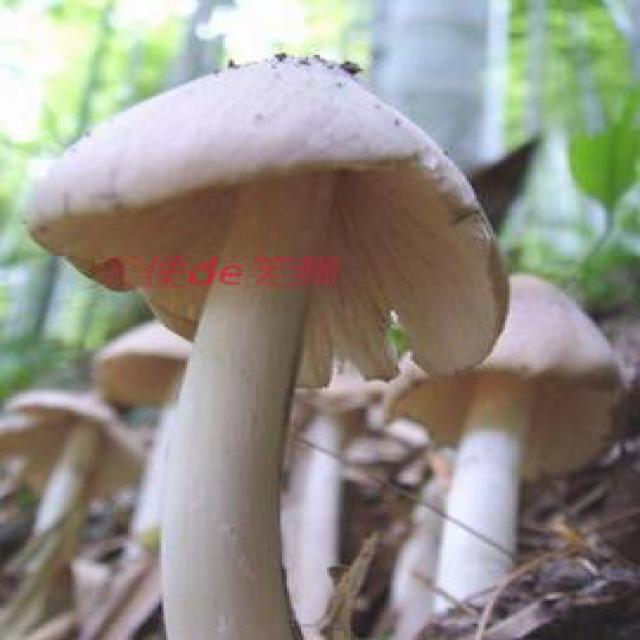Collybia albuminosa: (27, 56, 506, 640), (393, 272, 621, 592)
